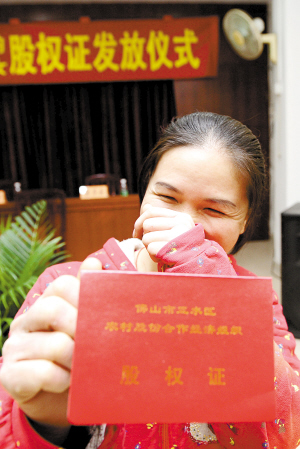face: (138, 149, 242, 270)
